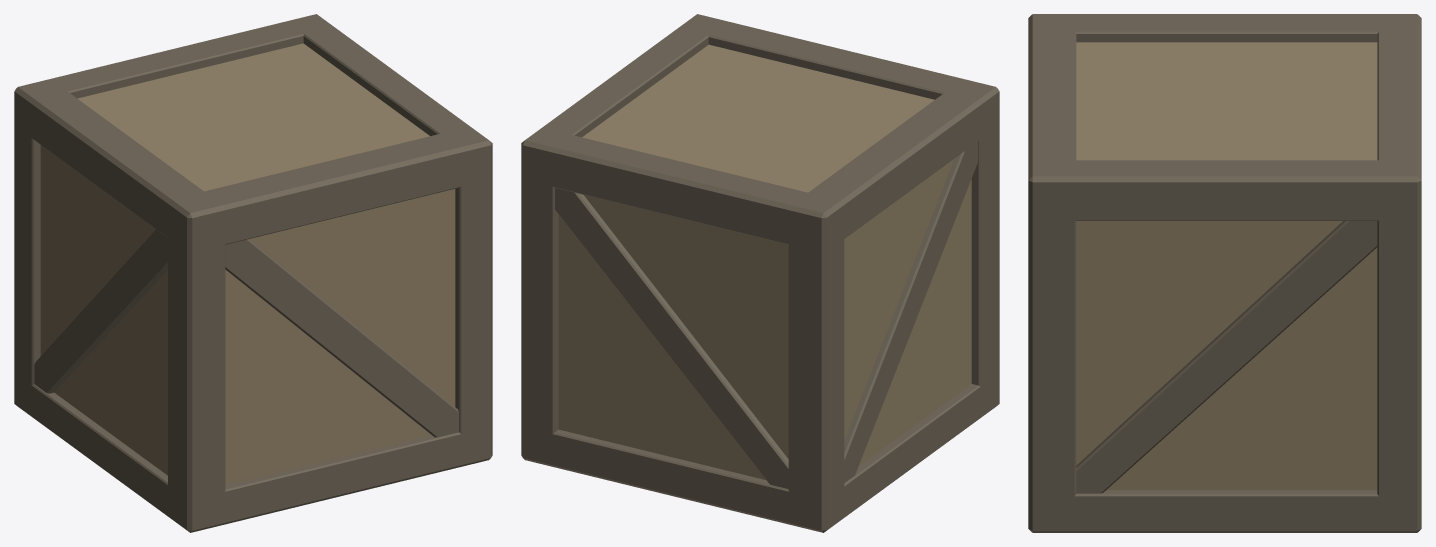
File: crate3.fbx
The picture shows the model from 3 angles, left to right: view 1: azimuth 30°, elevation 25°; view 2: azimuth 150°, elevation 25°; view 3: azimuth 270°, elevation 25°; orthographic projection. The views are drawn at different scales.
Parts seen in each view (by area): view 1: crate; view 2: crate; view 3: crate.
Boxes of the visible parts, x1,y1,x2,y2 form: crate: (14,14,492,532); crate: (521,14,999,532); crate: (1028,14,1421,532).
Bounding box in the file's own units: 72.87 × 72.87 × 72.87.
